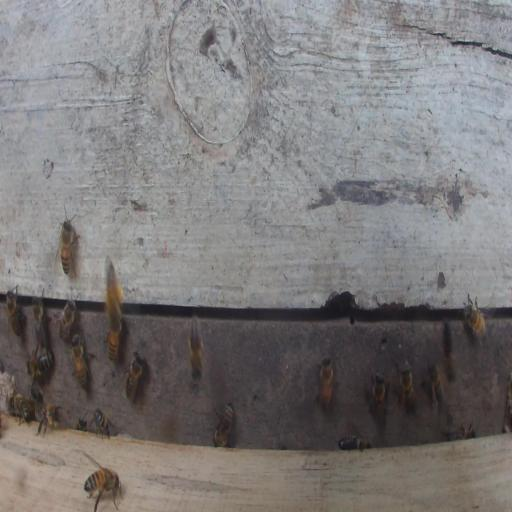bee: (83, 466, 122, 511), (186, 313, 206, 381), (464, 293, 487, 345), (105, 265, 122, 334), (70, 332, 90, 388), (5, 283, 24, 338), (213, 400, 234, 448), (397, 357, 415, 412), (35, 402, 62, 438), (317, 353, 334, 410), (442, 320, 457, 384), (55, 299, 77, 341), (427, 362, 444, 413), (27, 349, 54, 380), (9, 392, 35, 424), (126, 351, 143, 399), (32, 291, 46, 348), (371, 370, 386, 420), (60, 221, 73, 275), (440, 422, 476, 440), (93, 408, 112, 440), (337, 435, 370, 450), (107, 327, 121, 362), (30, 382, 43, 403)
